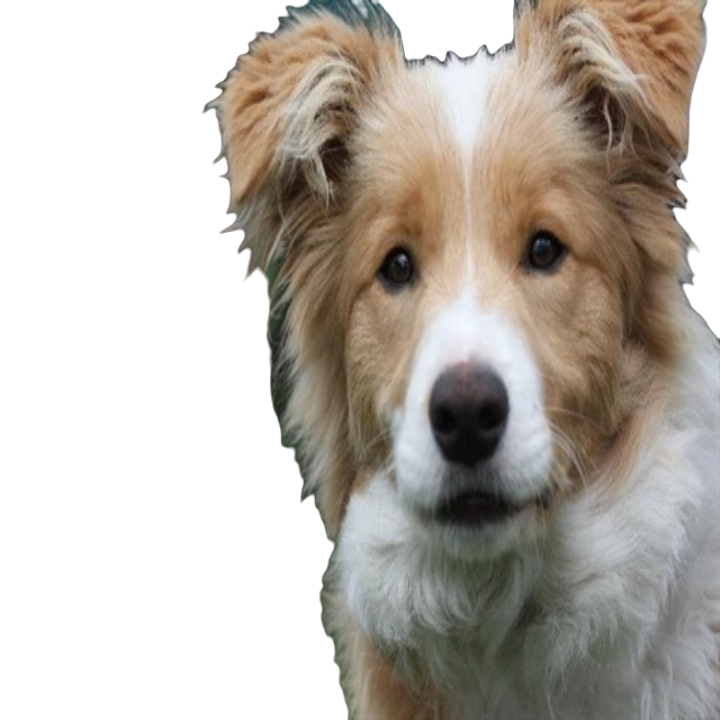Dog: (206, 0, 719, 720)
